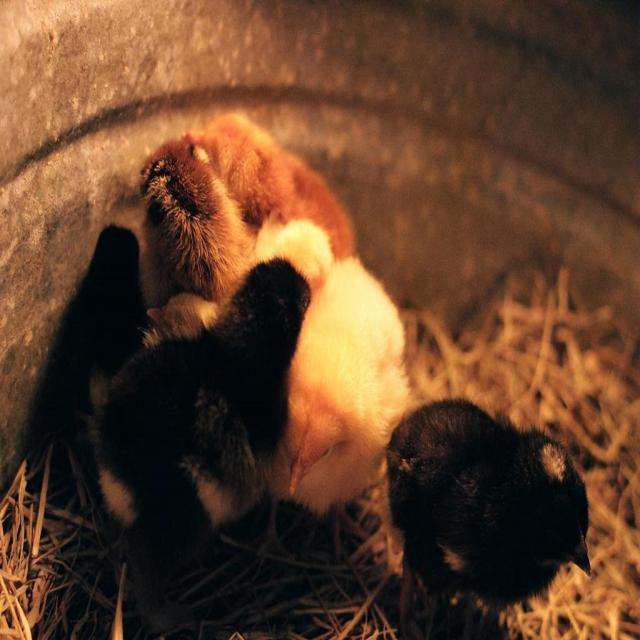Chicken: (387, 388, 586, 640)
